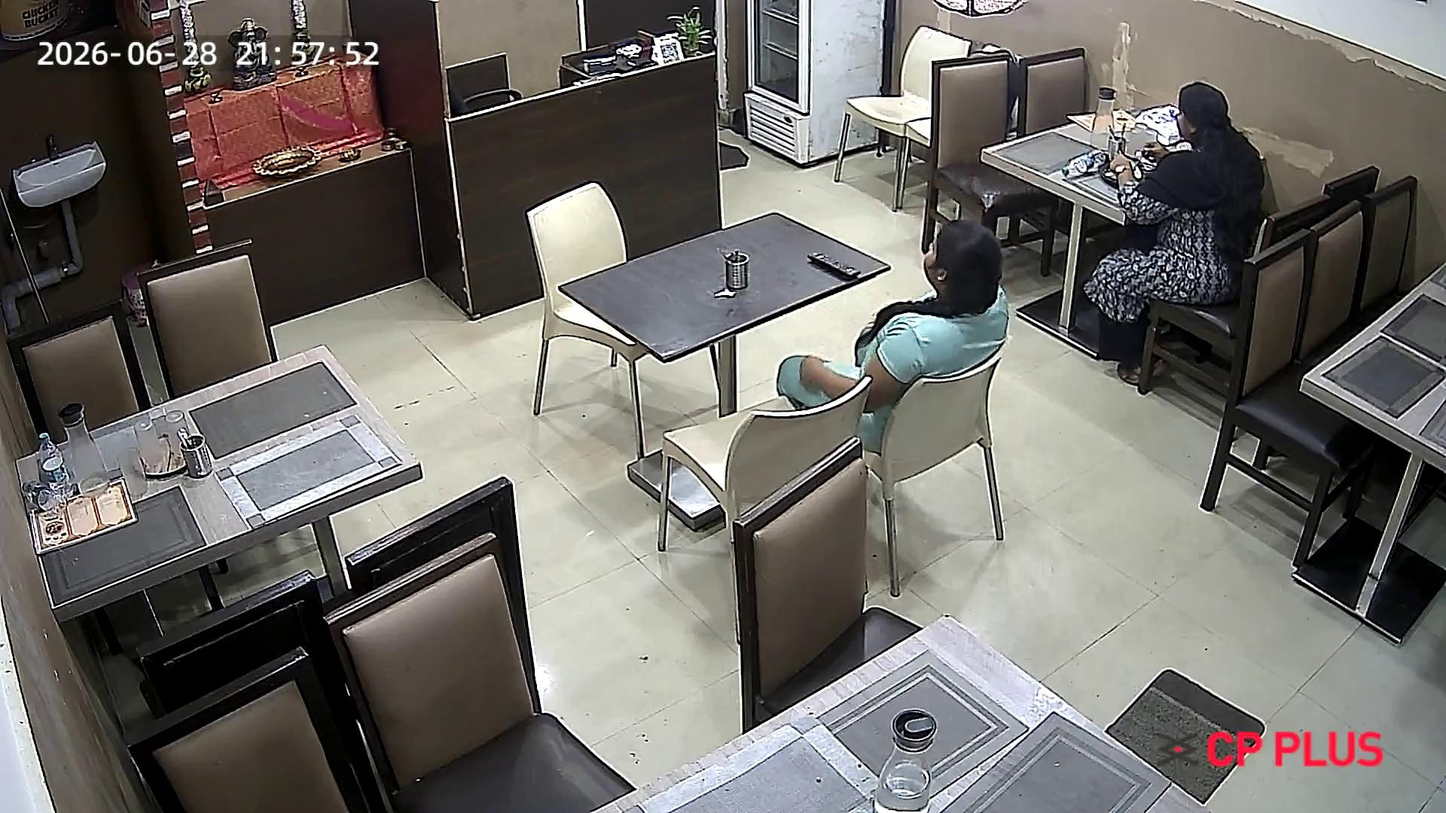clean: (611, 627, 1138, 813)
dirty: (5, 337, 429, 605)
occupied: (551, 182, 963, 420), (1014, 114, 1353, 264)
